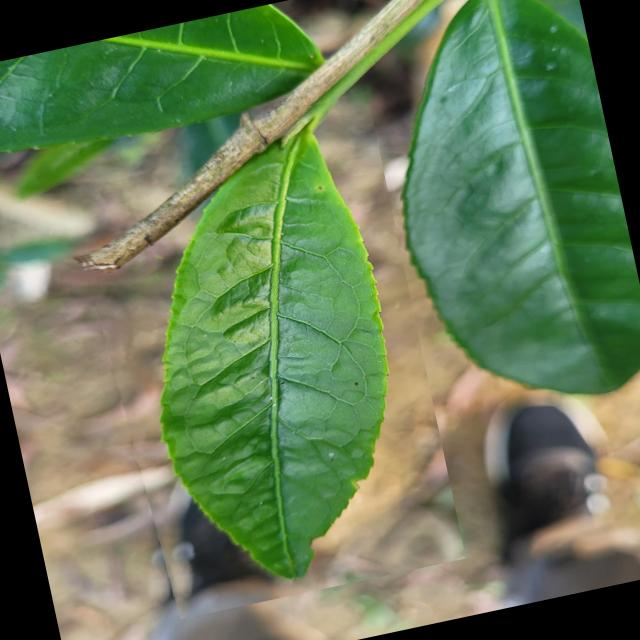Category D(7+ days, Not for Tea): (57, 91, 466, 624)
